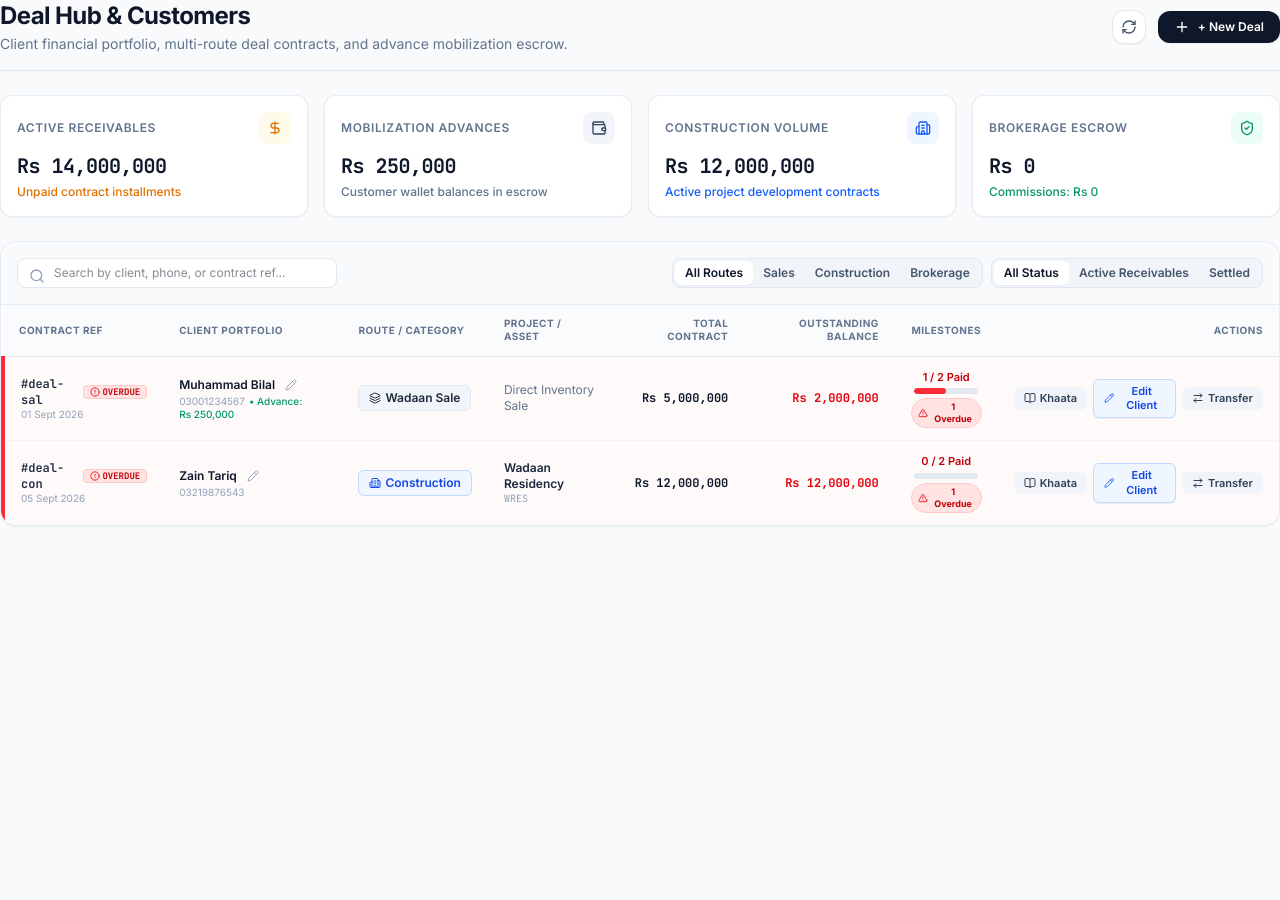
it: Screen 8: Deal Hub & Customer Portfolio (DealHubPage) › 8. clicking "+ New Deal" opens CreateDealModal wizard
Click the button with test id "btn-new-deal": (1219, 27) 1158,11 -> 1279,43
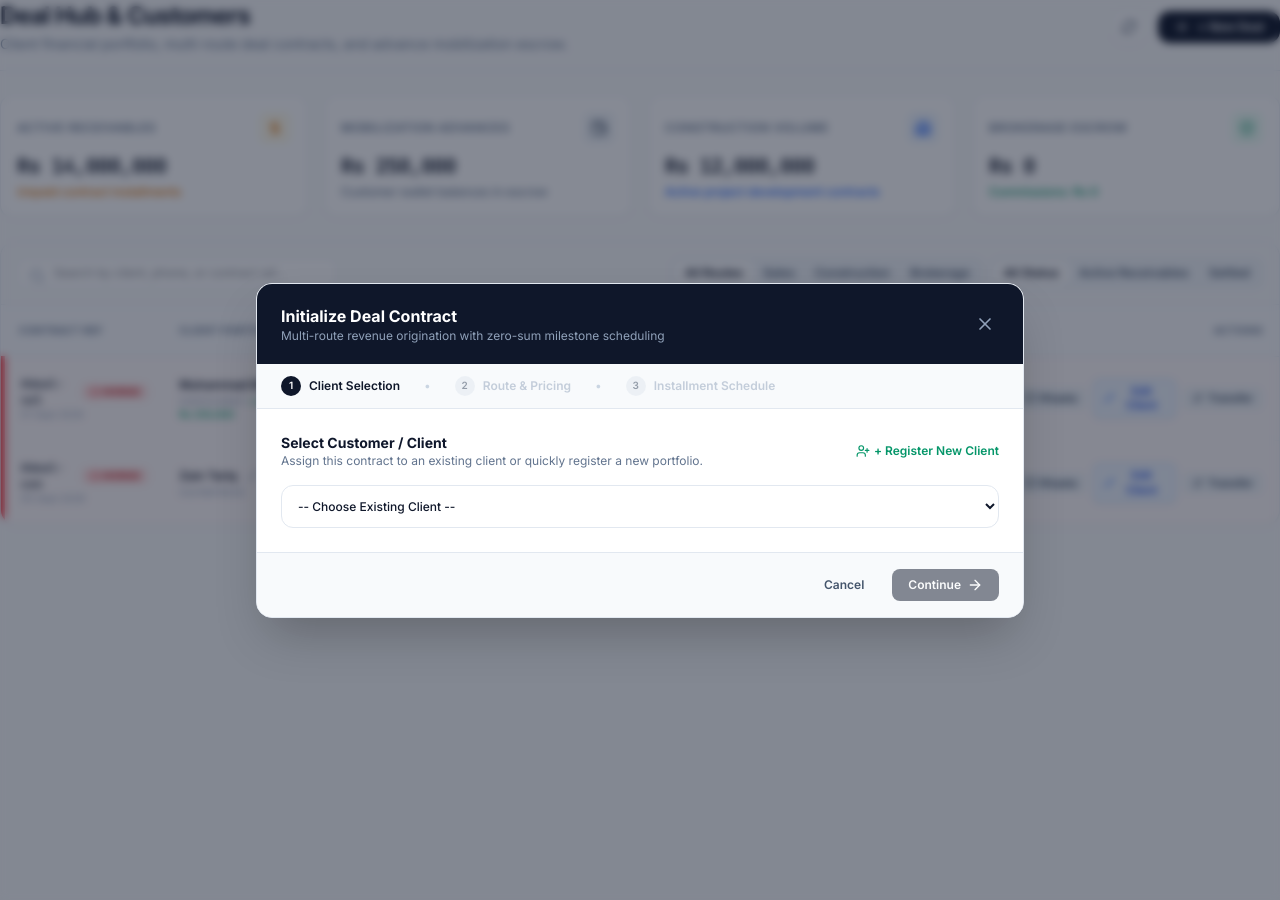
Expected: the element with test id "create-deal-modal" is shown
Expected: the heading "Select Customer / Client" is shown, 281,434 -> 447,450
